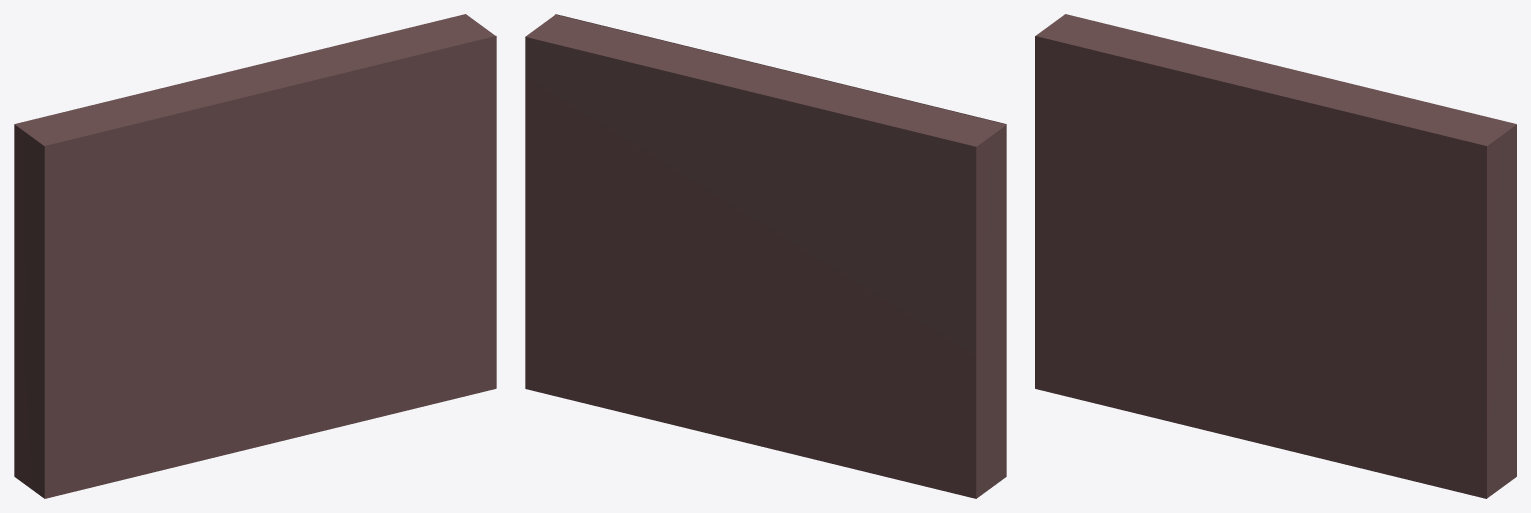
Rendered from big_walls.fbx.
3 renders of one model, left to right at view 1: azimuth 30°, elevation 25°; view 2: azimuth 150°, elevation 25°; view 3: azimuth 330°, elevation 25°, orthographic.
Parts seen in each view (by area): view 1: big_wall_plane, big_wall_full, big_wall__half; view 2: big_wall_full, big_wall__half; view 3: big_wall_plane, big_wall_full, big_wall__half.
Part boxes in pixels (<box>): big_wall_plane: <box>45,36,496,498</box>; big_wall_full: <box>14,14,495,498</box>; big_wall__half: <box>14,302,269,498</box>; big_wall_full: <box>525,14,1006,498</box>; big_wall__half: <box>976,302,1006,486</box>; big_wall_plane: <box>1035,36,1486,498</box>; big_wall_full: <box>1035,14,1516,498</box>; big_wall__half: <box>1035,213,1516,498</box>.
Bounding box in the file's own units: 500 × 374 × 58.41.
